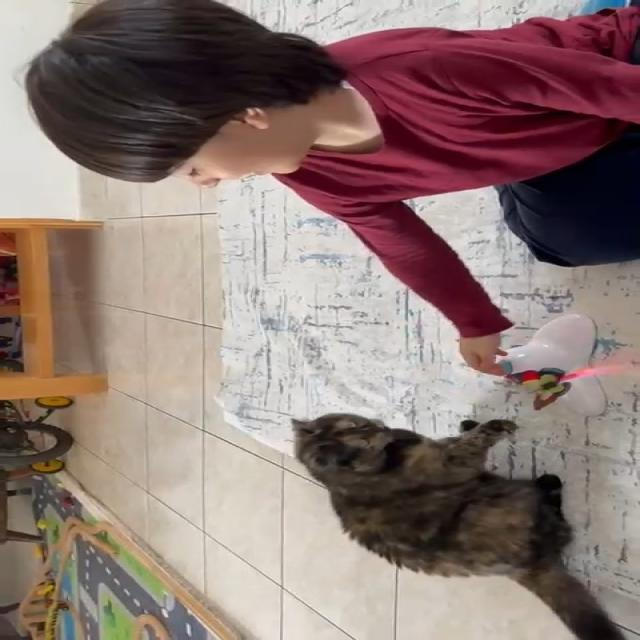authorized: (288, 412, 627, 639)
